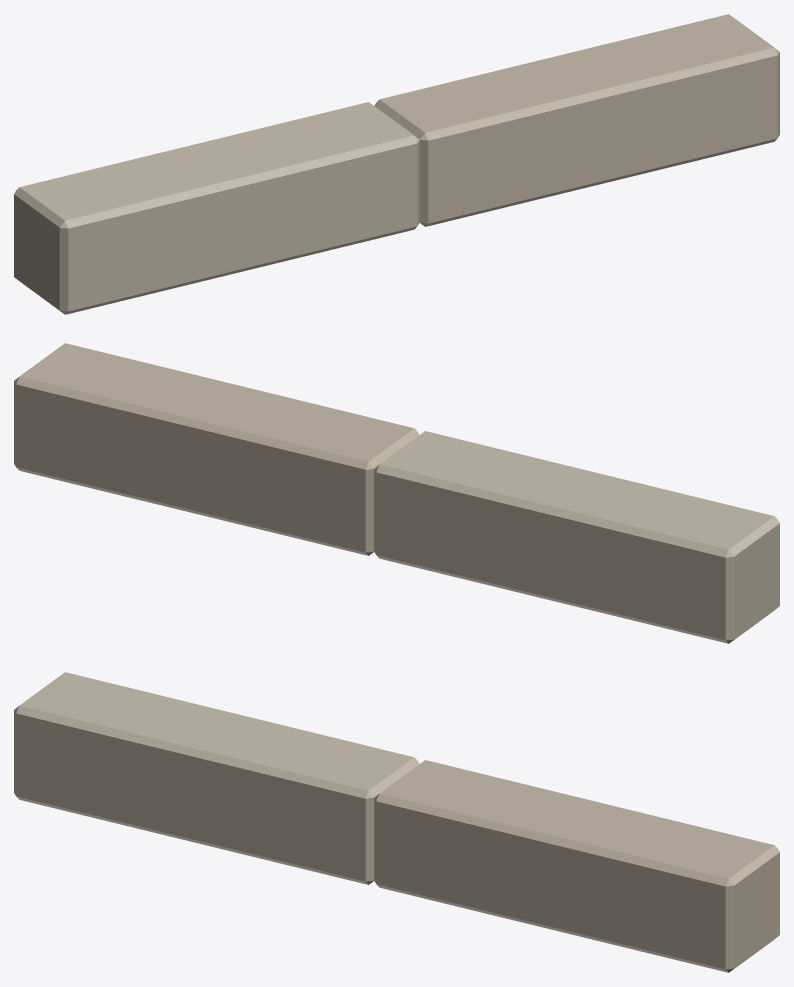
Rendered from Beam8.glb.
The picture shows the model from 3 angles, top to bottom: view 1: azimuth 30°, elevation 25°; view 2: azimuth 150°, elevation 25°; view 3: azimuth 330°, elevation 25°; orthographic projection.
Visible parts, largest first — view 1: Wood; view 2: Wood; view 3: Wood.
Boxes of the visible parts, x1,y1,x2,y2 form: Wood: (14,14,779,314); Wood: (14,343,779,643); Wood: (14,672,779,972).
Size of what is drawn, in the model's own units: 8 by 1 by 1.
